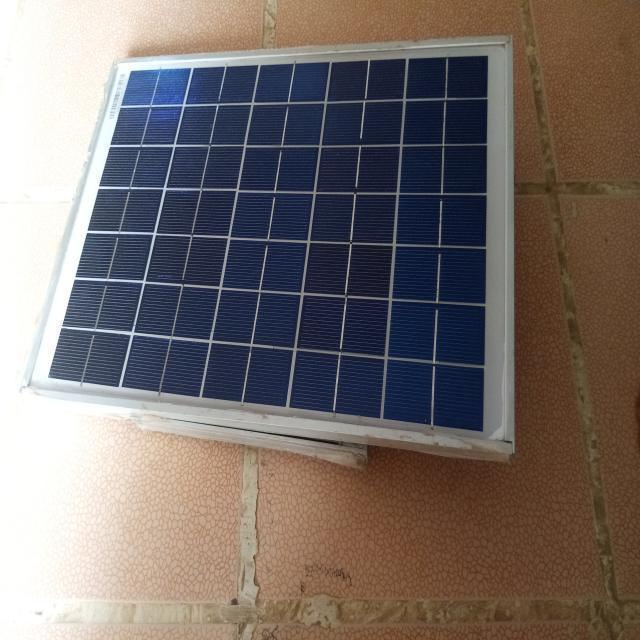Normal Solar Panel: (28, 39, 514, 445)
